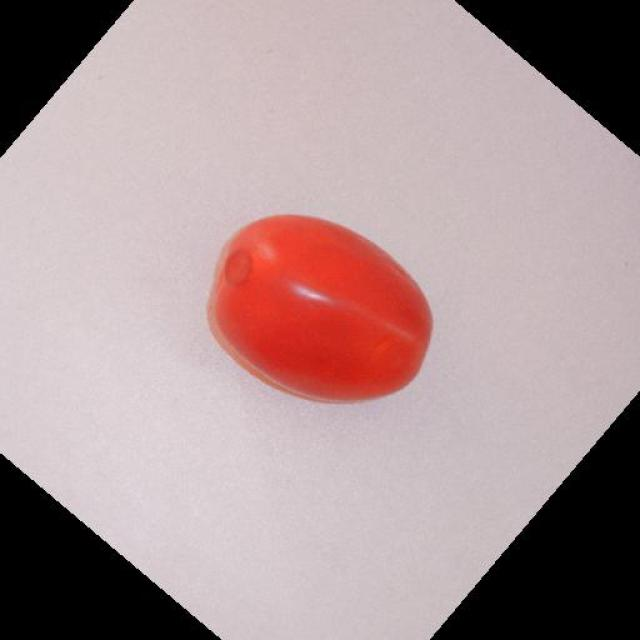Stale_tomato: (218, 205, 450, 415)
